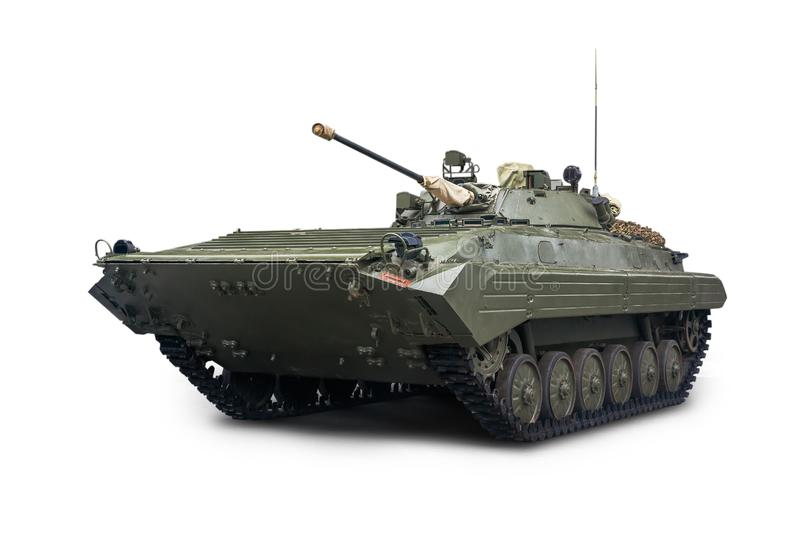bmp1: (99, 118, 722, 425)
